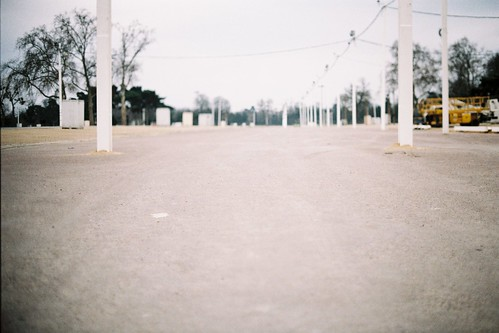sky: (147, 1, 388, 94)
street: (10, 131, 499, 333)
tree: (6, 3, 146, 124), (388, 40, 435, 126), (445, 32, 489, 96)
